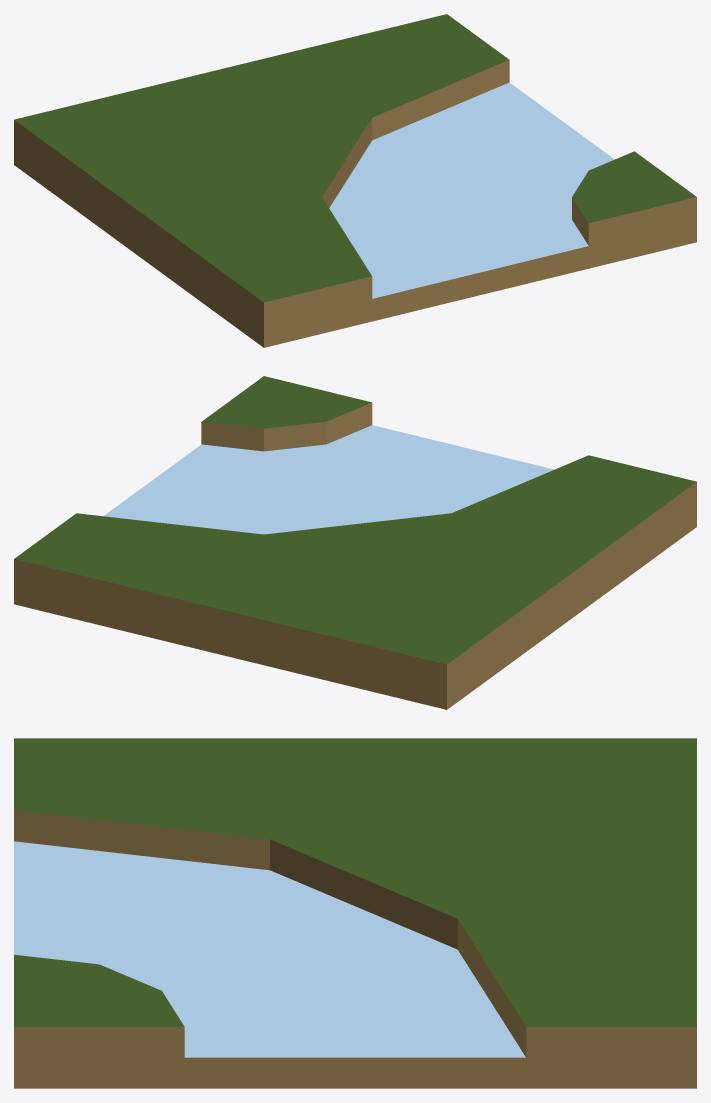
File: Terrain_Modular_Tiles_Grass_Dirt_River_Bend_01.fbx
3 renders of one model, top to bottom at view 1: azimuth 30°, elevation 25°; view 2: azimuth 150°, elevation 25°; view 3: azimuth 270°, elevation 25°, orthographic. The views are drawn at different scales.
Parts seen in each view (by area): view 1: Terrain_Modular_Tiles_Grass_Dirt_River_Bend_01; view 2: Terrain_Modular_Tiles_Grass_Dirt_River_Bend_01; view 3: Terrain_Modular_Tiles_Grass_Dirt_River_Bend_01.
Boxes of the visible parts, left/top/right/bottom form: Terrain_Modular_Tiles_Grass_Dirt_River_Bend_01: left=14, top=14, right=696, bottom=347; Terrain_Modular_Tiles_Grass_Dirt_River_Bend_01: left=14, top=376, right=696, bottom=709; Terrain_Modular_Tiles_Grass_Dirt_River_Bend_01: left=14, top=738, right=696, bottom=1088.
Bounding box in the file's own units: 118 × 11.81 × 118.
